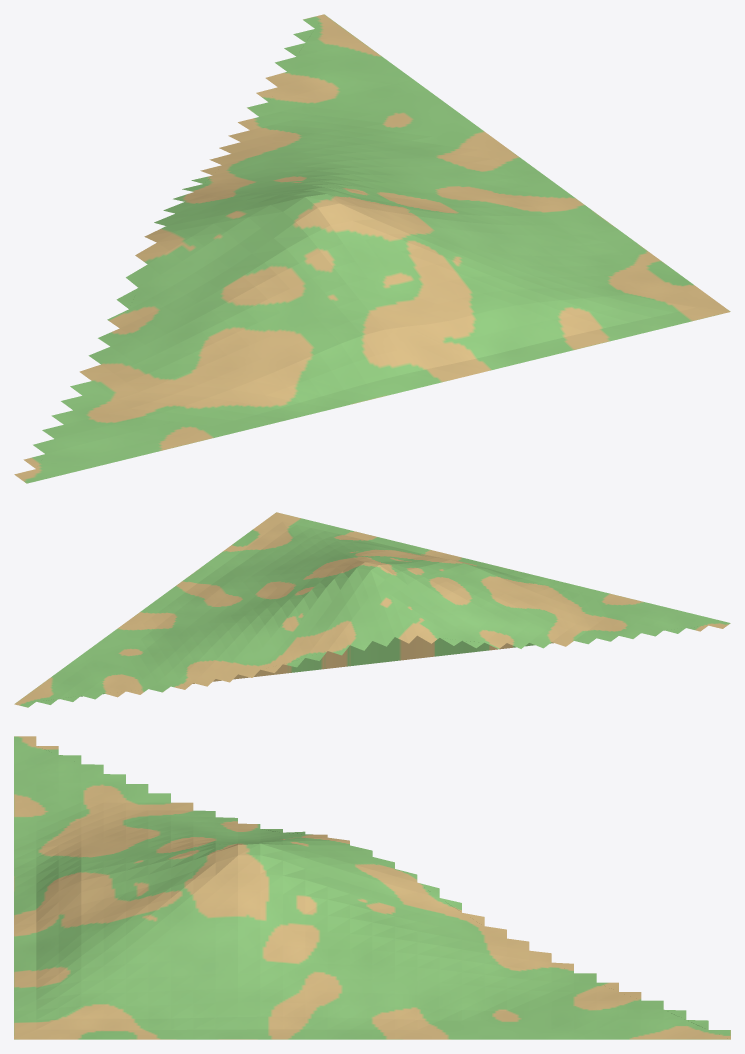
Rendered from Grass_Hills_07_NE.obj.
3 views of the same model, one above another, from view 1: azimuth 30°, elevation 25°; view 2: azimuth 150°, elevation 25°; view 3: azimuth 270°, elevation 25° (orthographic). The views are drawn at different scales.
Size of the model in its own units: 10 by 1.12 by 10.
1 material, 1 textured.
